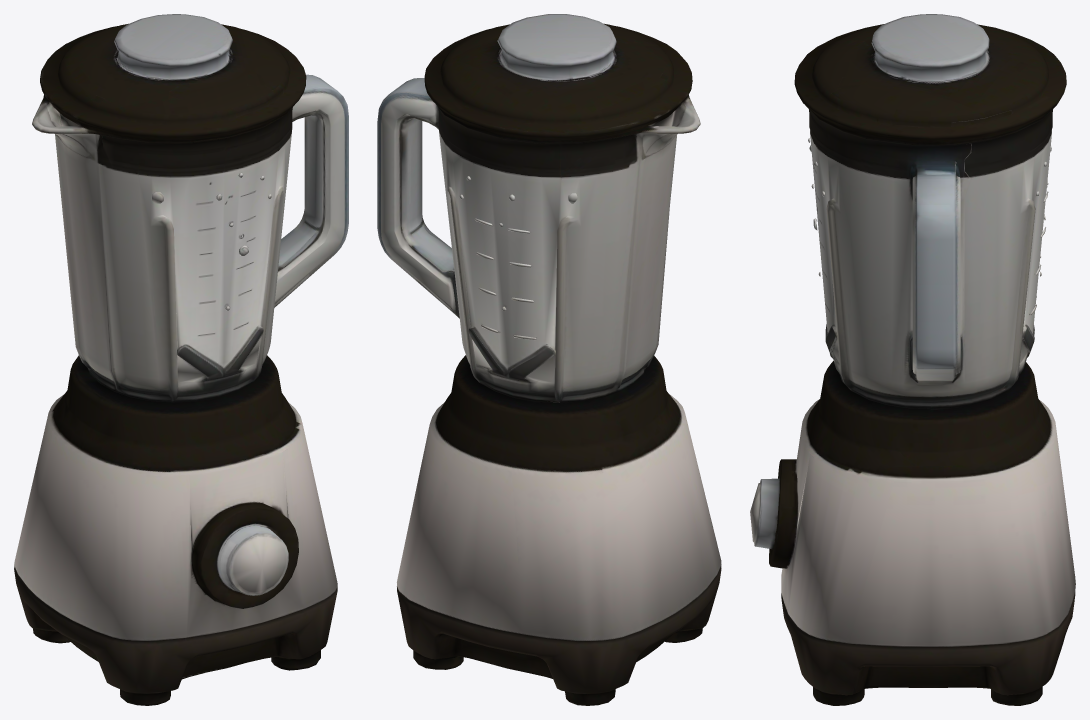
The model's file is a_blender_049af53d_v1.glb.
3 views of the same model, side by side, from view 1: azimuth 30°, elevation 25°; view 2: azimuth 150°, elevation 25°; view 3: azimuth 270°, elevation 25° (orthographic). The views are drawn at different scales.
Visible parts, largest first — view 1: material; view 2: material; view 3: material.
Boxes of the visible parts, x1,y1,x2,y2 form: material: [14, 14, 348, 705]; material: [377, 14, 721, 705]; material: [750, 14, 1075, 705].
Bounding box in the file's own units: 1 × 1.9 × 0.9002.
Materials: 1 (1 with a texture image).
